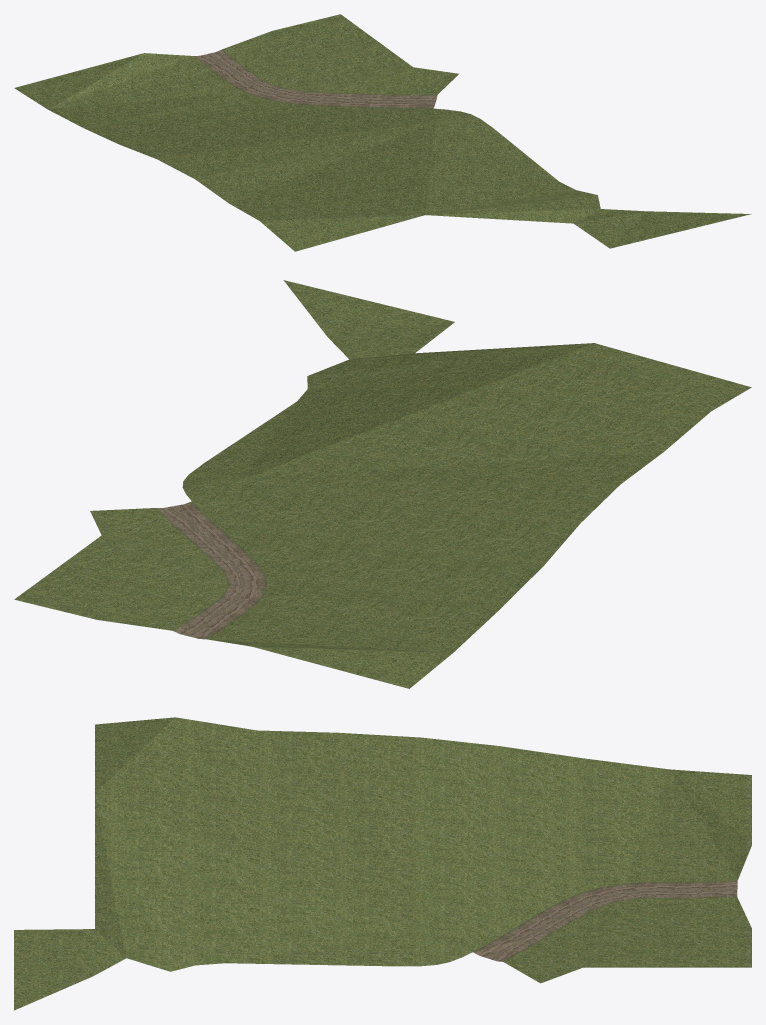
The model's file is lod_cen_bit_17.obj.
3 renders of one model, top to bottom at view 1: azimuth 30°, elevation 25°; view 2: azimuth 150°, elevation 25°; view 3: azimuth 270°, elevation 25°, orthographic. The views are drawn at different scales.
Visible parts, largest first — view 1: lod_cen_bit_17; view 2: lod_cen_bit_17; view 3: lod_cen_bit_17.
Boxes of the visible parts, x1,y1,x2,y2 form: lod_cen_bit_17: [14, 14, 751, 251]; lod_cen_bit_17: [14, 280, 751, 688]; lod_cen_bit_17: [14, 717, 751, 1010].
Bounding box in the file's own units: 149 × 18.83 × 193.
Materials: 2 (2 with a texture image).
